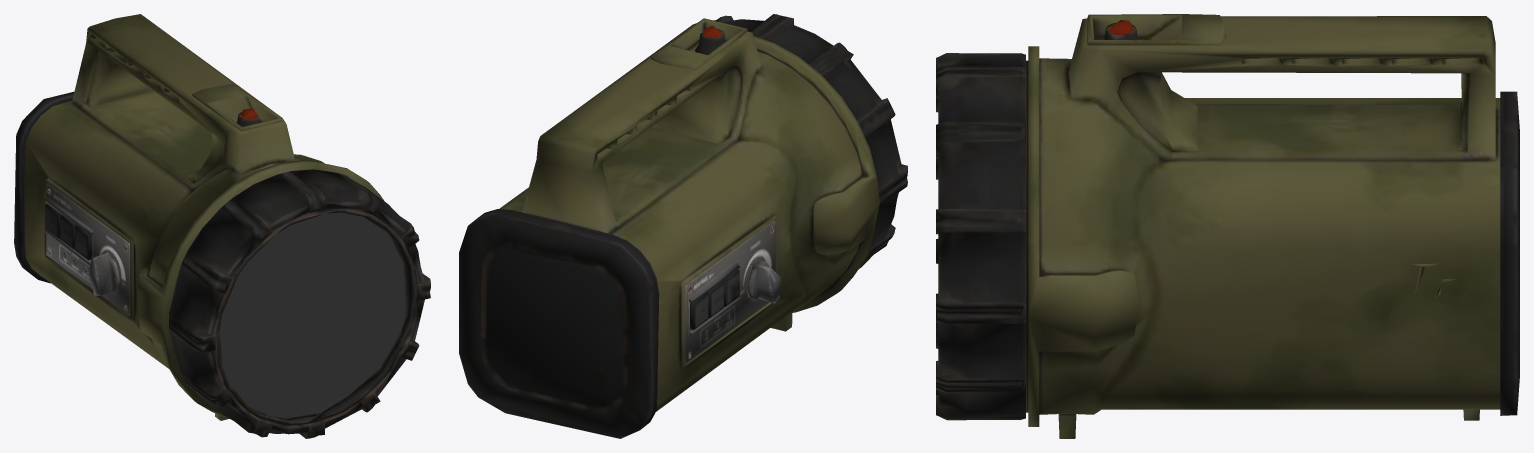
File: searchlight.glb
The picture shows the model from 3 angles, left to right: view 1: azimuth 30°, elevation 25°; view 2: azimuth 150°, elevation 25°; view 3: azimuth 270°, elevation 25°; orthographic projection. The views are drawn at different scales.
Parts seen in each view (by area): view 1: portable_searchlight; view 2: portable_searchlight; view 3: portable_searchlight.
Part boxes in pixels (x1,y1,x2,y2): portable_searchlight: [14, 14, 430, 438]; portable_searchlight: [459, 14, 907, 438]; portable_searchlight: [936, 14, 1519, 438].
Bounding box in the file's own units: 0.1653 × 0.1849 × 0.2534.
Materials: 2 (2 with a texture image).
